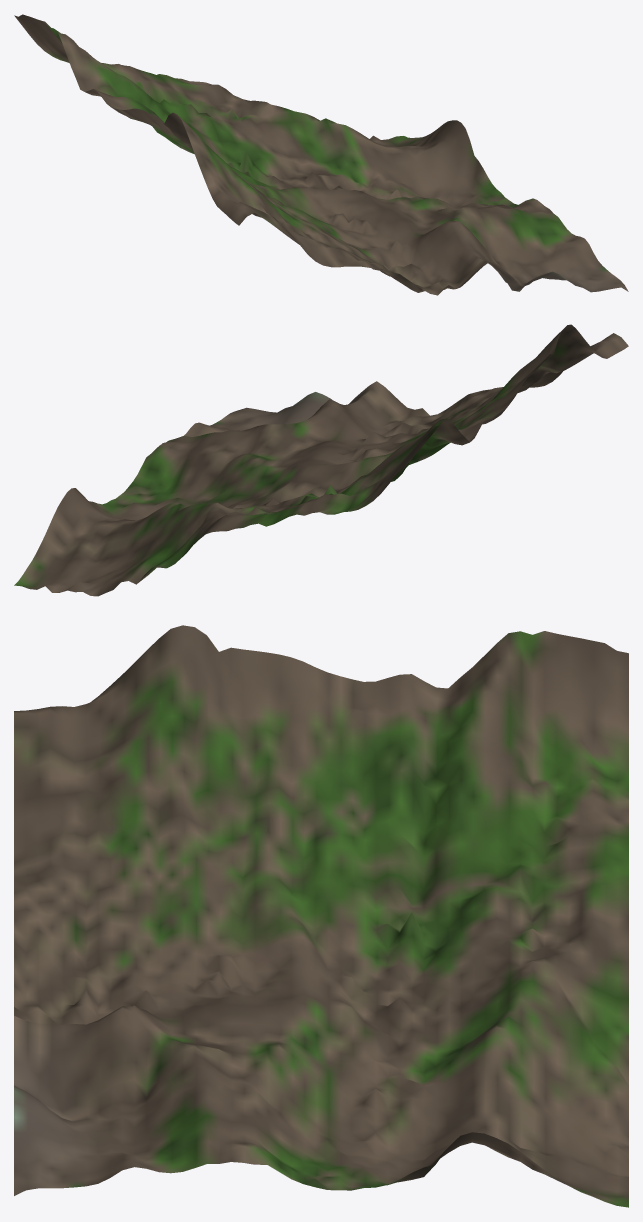
The model's file is chunk11-7_LOD0.obj.
3 renders of one model, top to bottom at view 1: azimuth 30°, elevation 25°; view 2: azimuth 150°, elevation 25°; view 3: azimuth 270°, elevation 25°, orthographic. The views are drawn at different scales.
Visible parts, largest first — view 1: chunk_11_7_LOD0; view 2: chunk_11_7_LOD0; view 3: chunk_11_7_LOD0.
Boxes of the visible parts, x1,y1,x2,y2 form: chunk_11_7_LOD0: (14,14,628,295); chunk_11_7_LOD0: (14,324,628,596); chunk_11_7_LOD0: (14,625,628,1207).
Bounding box in the file's own units: 1994 × 1154 × 1994.
Materials: 1 (1 with a texture image).
